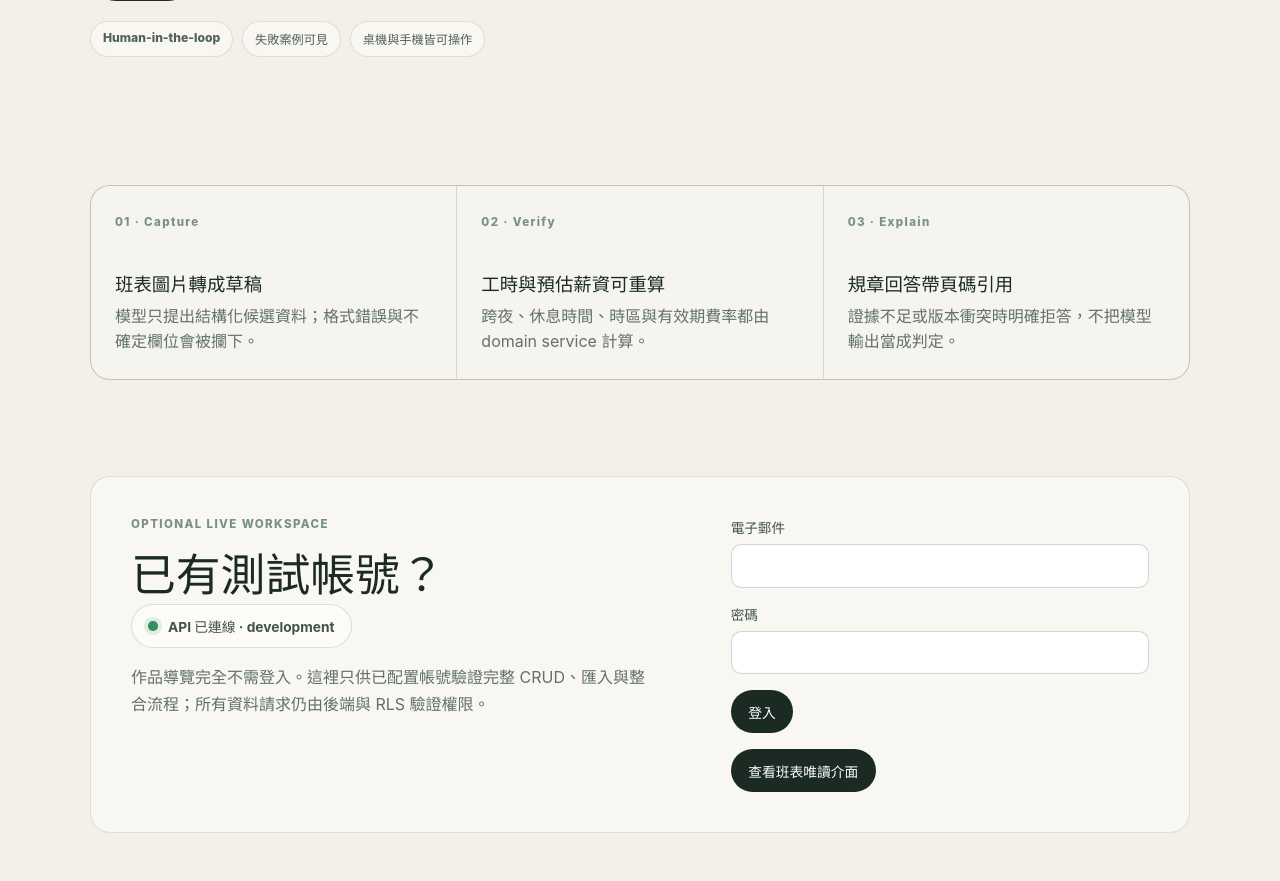
it: App › signs in through the injected session gateway
(page scrolled)
Type "demo@example.com" into the field labelled "電子郵件" at (940, 566), box [731, 544, 1149, 588]
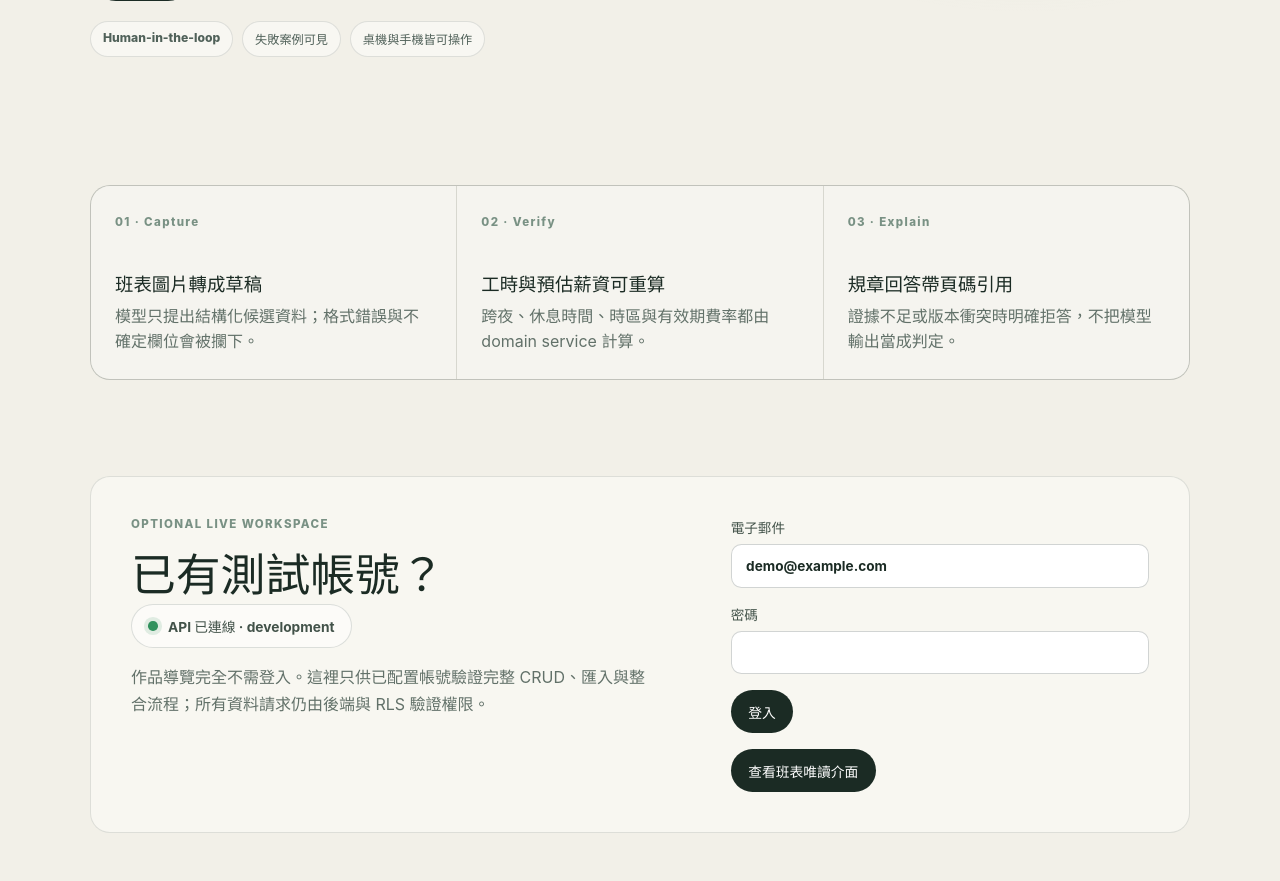
Type "synthetic-password" into the password field labelled "密碼" at (940, 653), box [731, 631, 1149, 674]
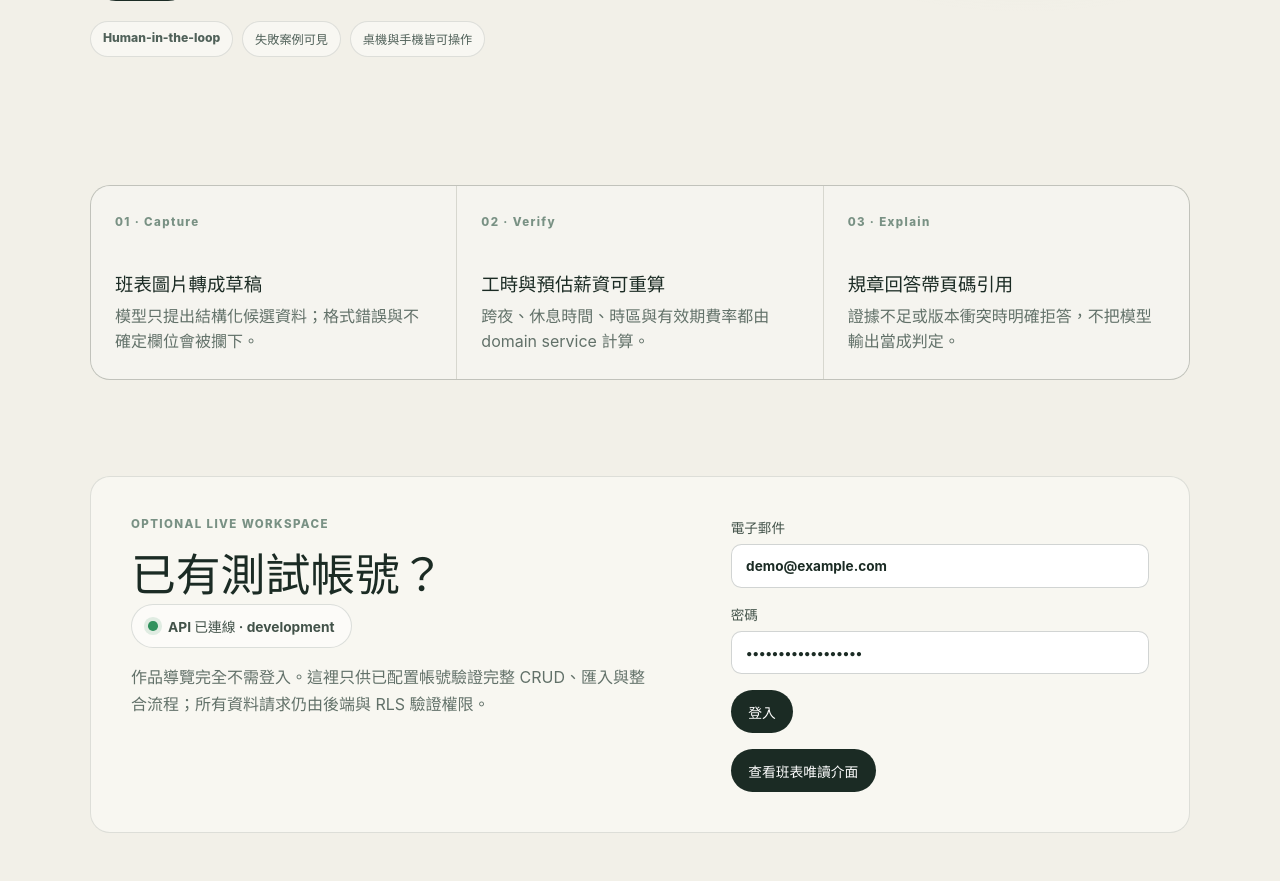
Click the button "登入" at (762, 712), box [731, 690, 793, 733]
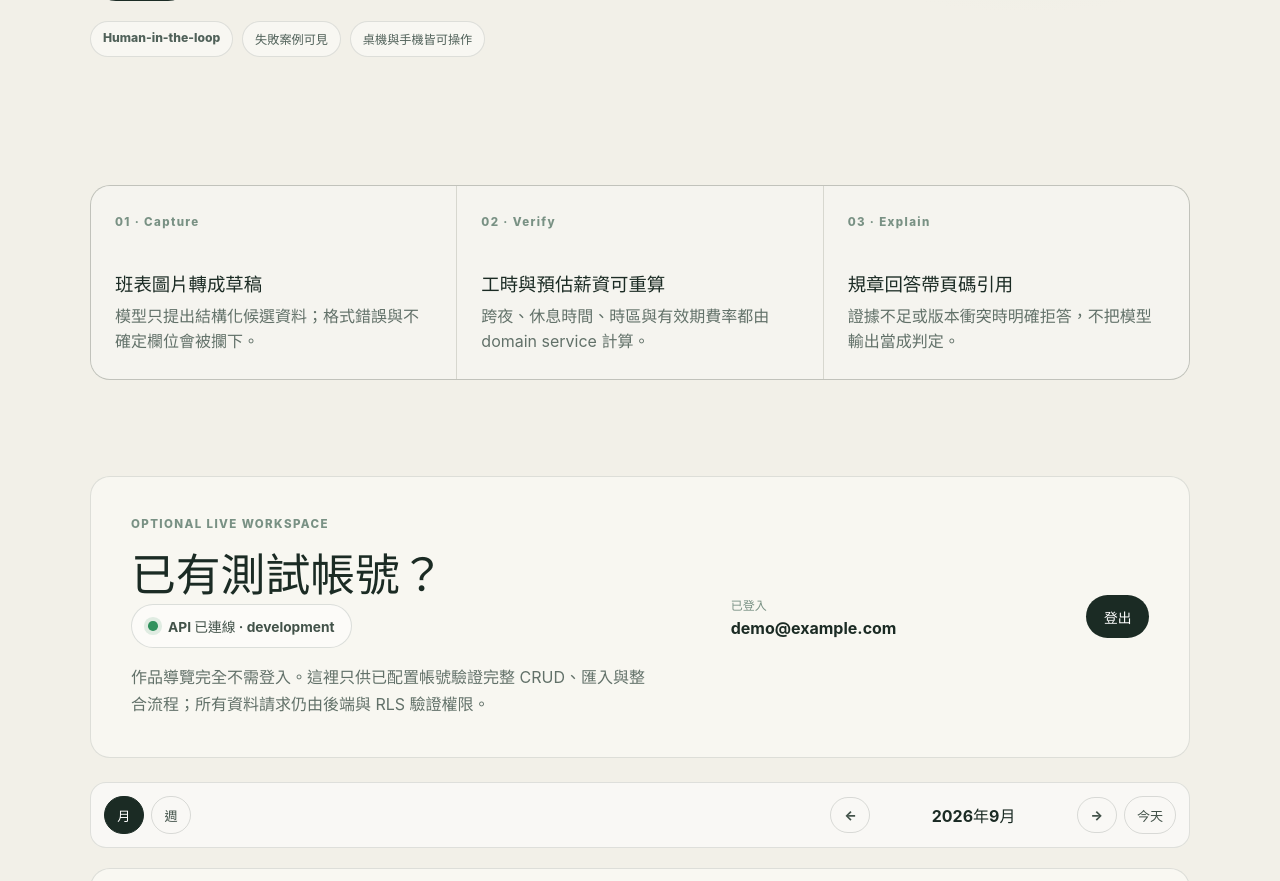
Check: the text "demo@example.com" is shown, box [731, 618, 896, 638]
